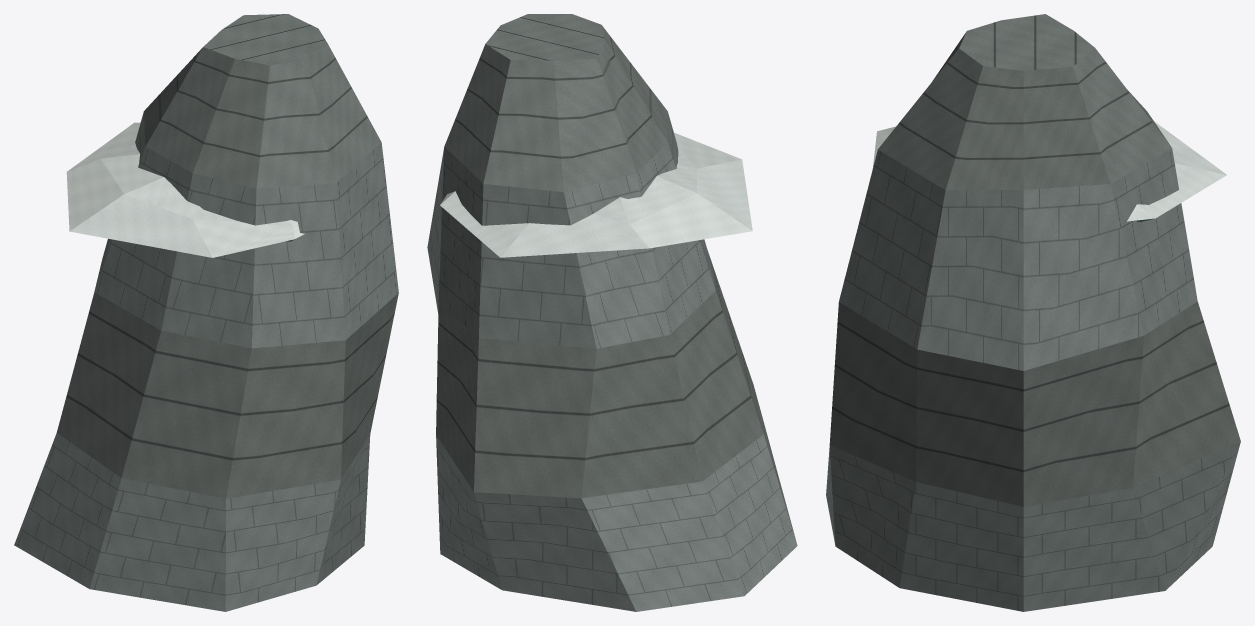
File: snow_rock_v02.glb
3 renders of one model, left to right at view 1: azimuth 30°, elevation 25°; view 2: azimuth 150°, elevation 25°; view 3: azimuth 270°, elevation 25°, orthographic. The views are drawn at different scales.
Visible parts, largest first — view 1: snow_rock_v02; view 2: snow_rock_v02; view 3: snow_rock_v02.
Part boxes in pixels (x1,y1,x2,y2): snow_rock_v02: [14, 14, 398, 611]; snow_rock_v02: [427, 14, 797, 611]; snow_rock_v02: [826, 14, 1240, 611].
Bounding box in the file's own units: 3.66 × 4.8 × 3.45.
1 material, 1 textured.
